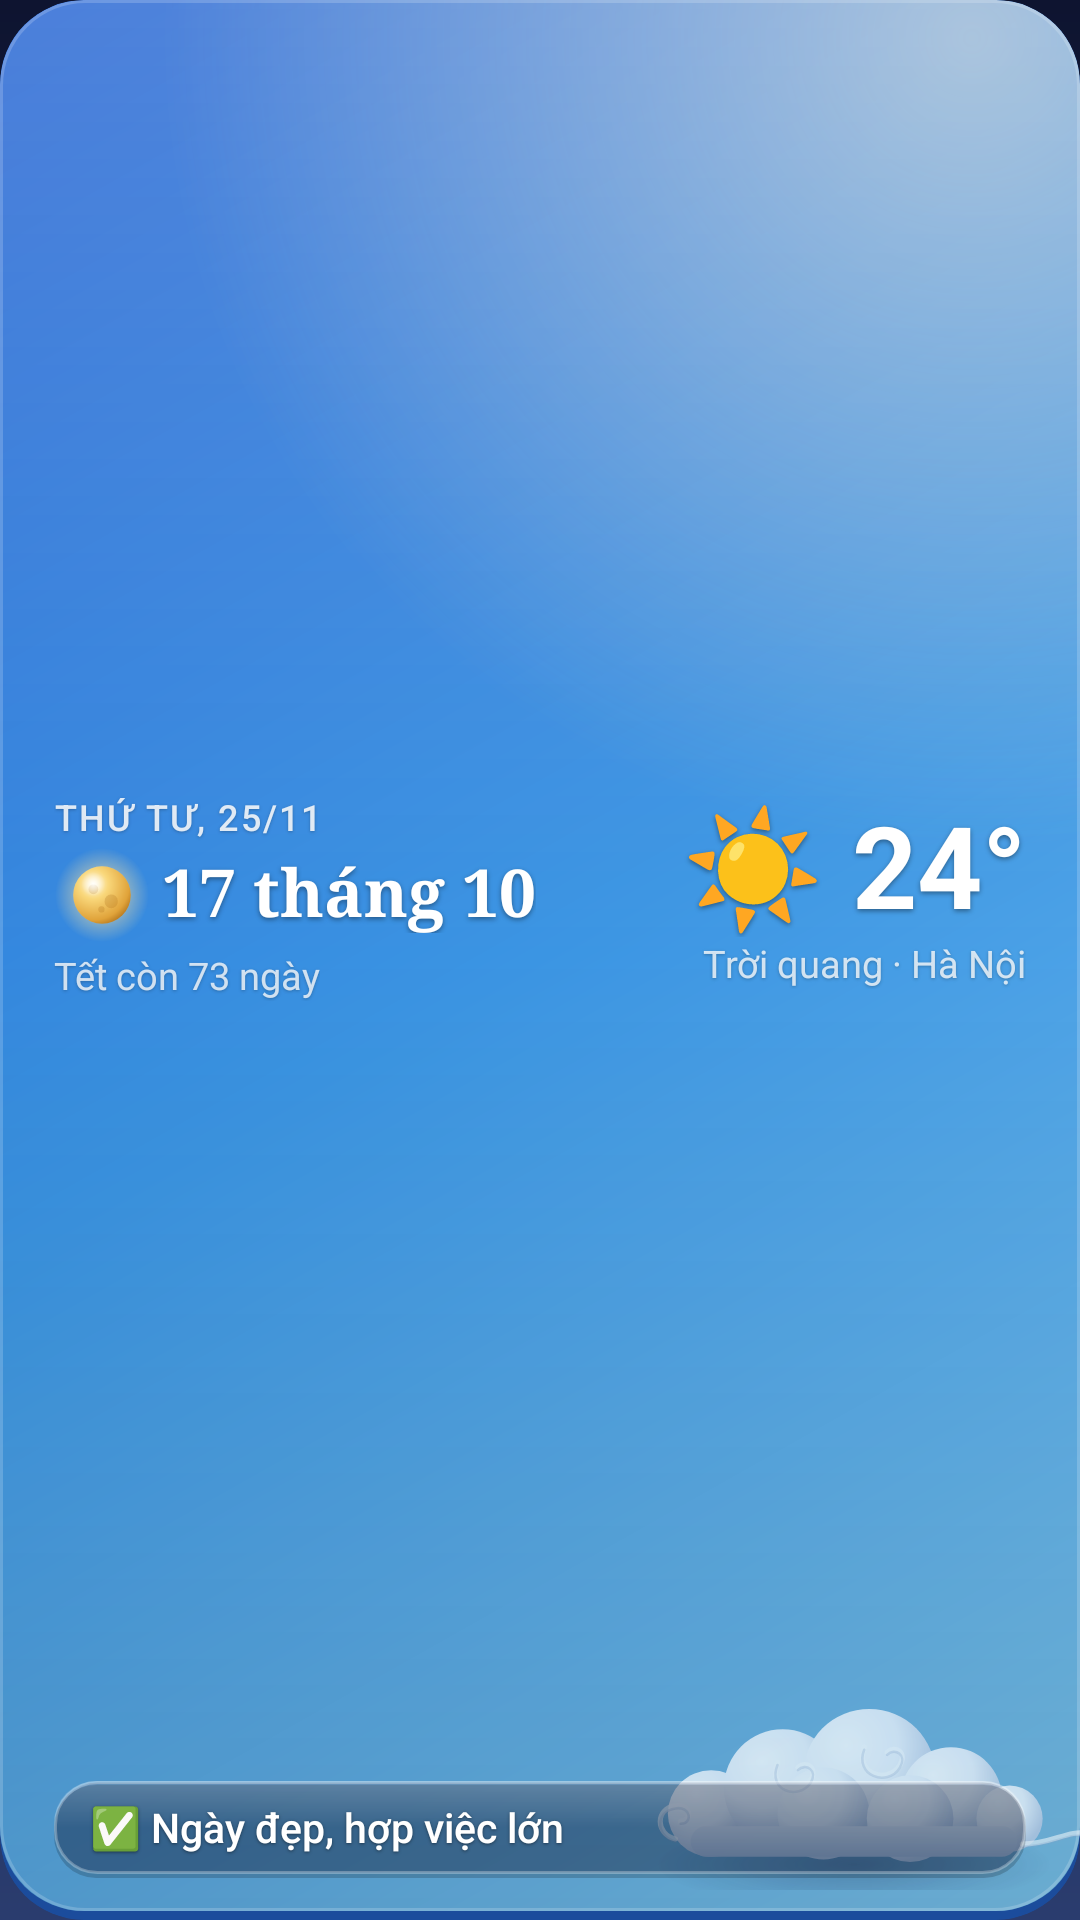

Point at icon controls on the screen. Image size 1080 x 1920, points as (x=x, y=y).
moon: (x=102, y=894)
